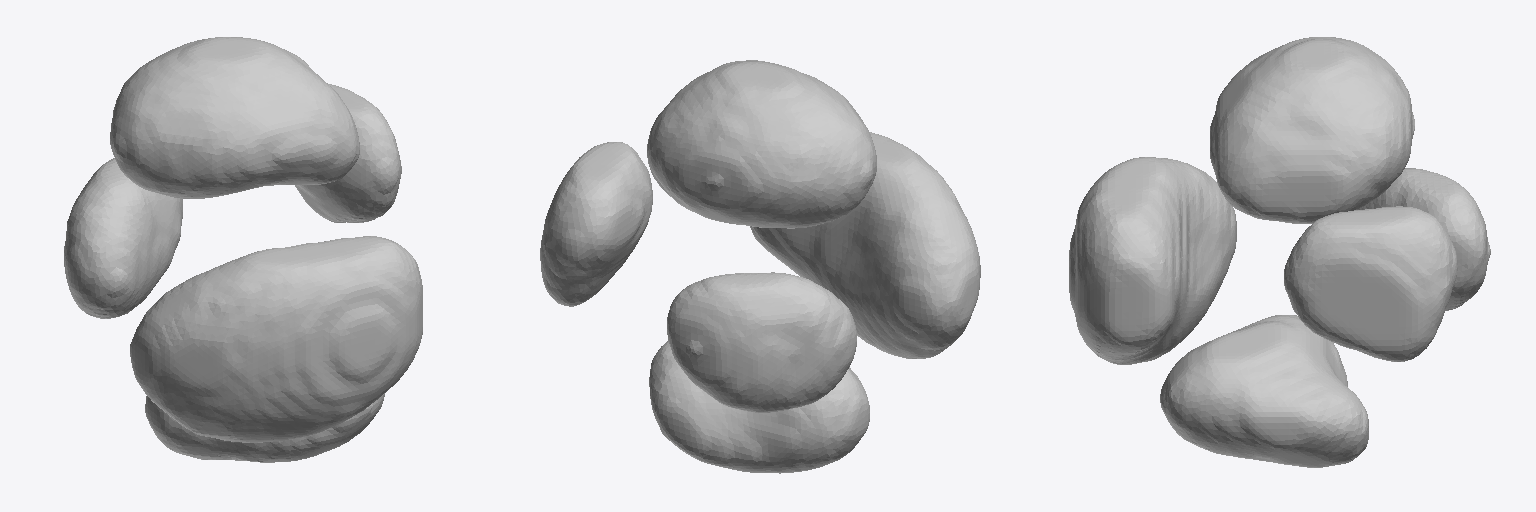
File: iso-crop-mosaic_1.obj
The picture shows the model from 3 angles: view 1: azimuth 30°, elevation 25°; view 2: azimuth 150°, elevation 25°; view 3: azimuth 270°, elevation 25°; orthographic projection.
Parts seen in each view (by area): view 1: 1, 3, 4, 2, 5; view 2: 3, 1, 4, 5, 2; view 3: 3, 1, 5, 2, 4.
Boxes of the visible parts, box(x1,y1,x2,y2) form: 1: box(130, 236, 422, 442); 3: box(110, 37, 359, 198); 4: box(64, 158, 182, 318); 2: box(295, 83, 401, 222); 5: box(145, 393, 384, 462); 3: box(647, 60, 876, 228); 1: box(750, 132, 980, 358); 4: box(667, 272, 856, 412); 5: box(649, 340, 869, 473); 2: box(540, 142, 652, 306); 3: box(1210, 37, 1414, 223); 1: box(1069, 157, 1236, 364); 5: box(1160, 315, 1368, 467); 2: box(1284, 206, 1457, 361); 4: box(1359, 168, 1490, 310).
Bounding box in the file's own units: 52.79 × 62.28 × 60.69.